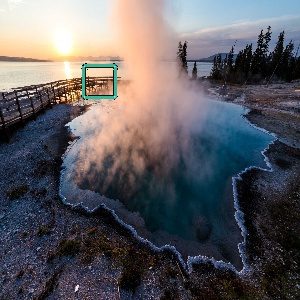square: (80, 62, 118, 101)
